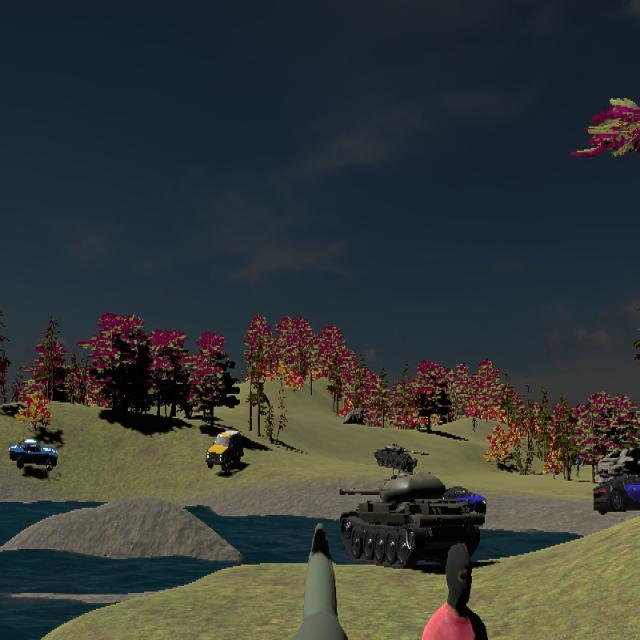Human: (399, 542, 505, 640)
Tank: (338, 472, 487, 571), (374, 442, 431, 471)
car: (593, 472, 640, 517), (206, 429, 245, 472), (9, 438, 58, 471)
